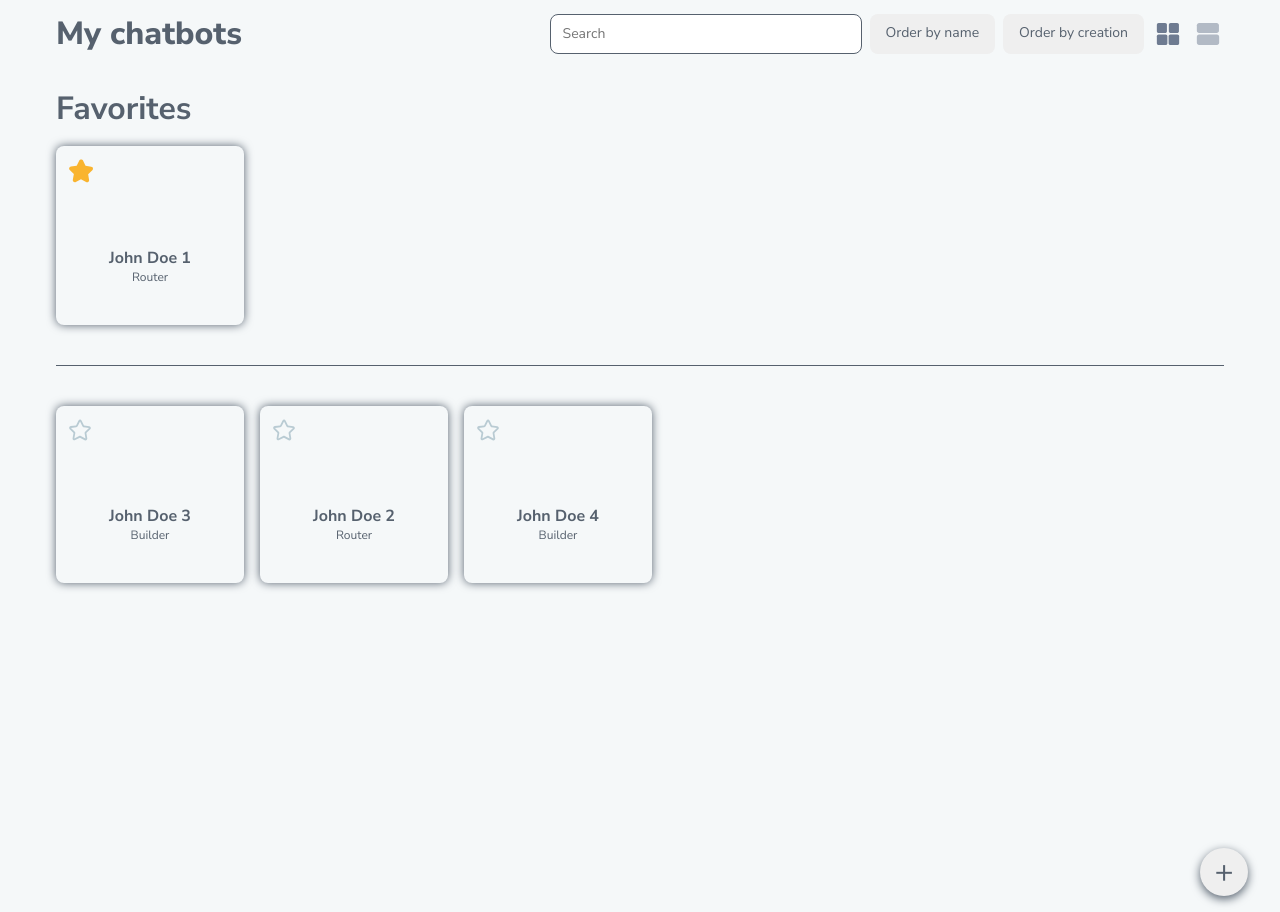
Test: Home page › should search when type on search input
Expected: the text "John Doe 1" is shown 4 times, x1=109 y1=247 x2=191 y2=269; x1=109 y1=505 x2=191 y2=527; x1=313 y1=505 x2=395 y2=527; x1=517 y1=505 x2=599 y2=527
Step 1. Type "John Doe 2" into the field with placeholder "Search" → (706,34), box x1=550 y1=14 x2=862 y2=54
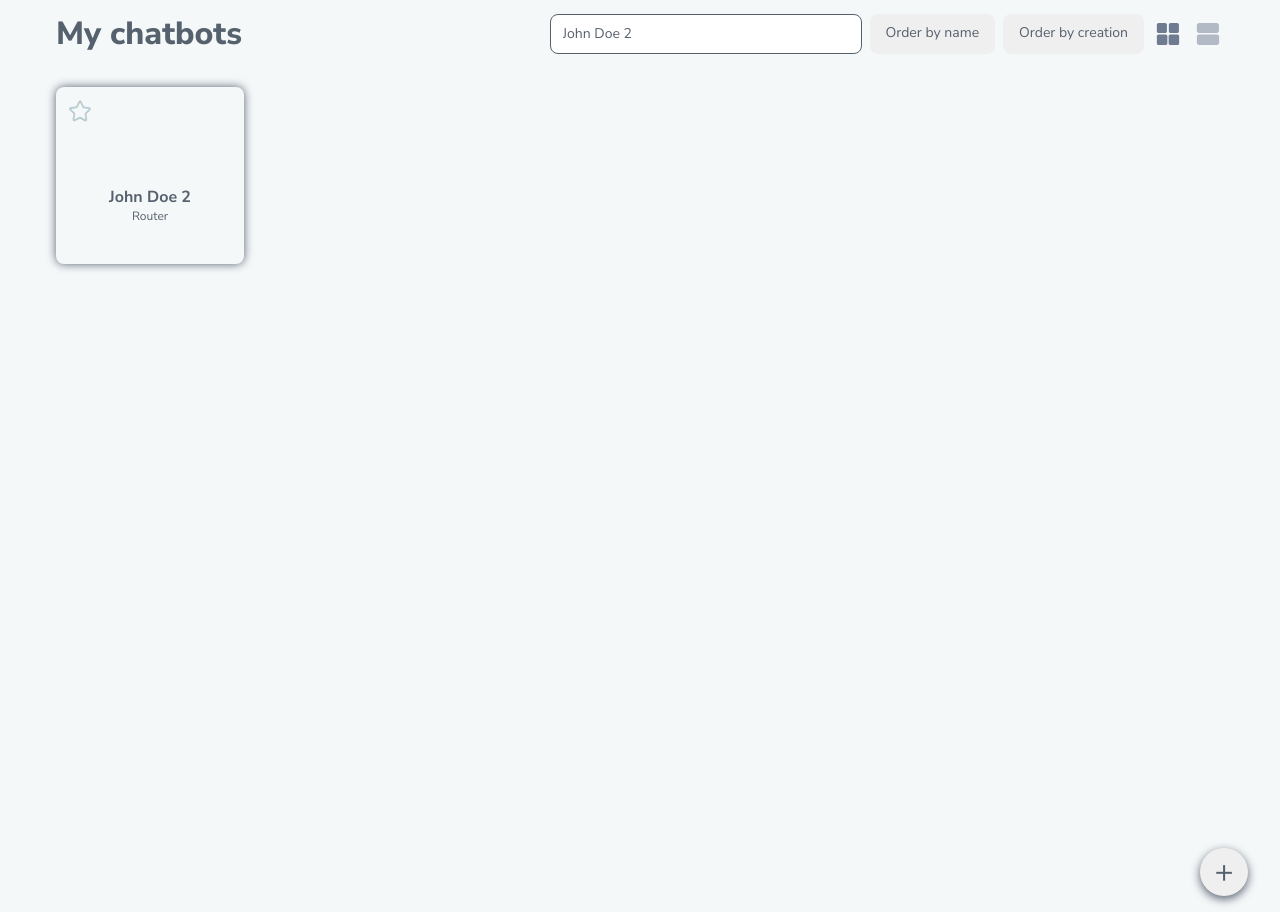
Expected: the text "John Doe 3" is gone
Expected: the text "John Doe 4" is gone
Expected: the text "John Doe 1" is gone
